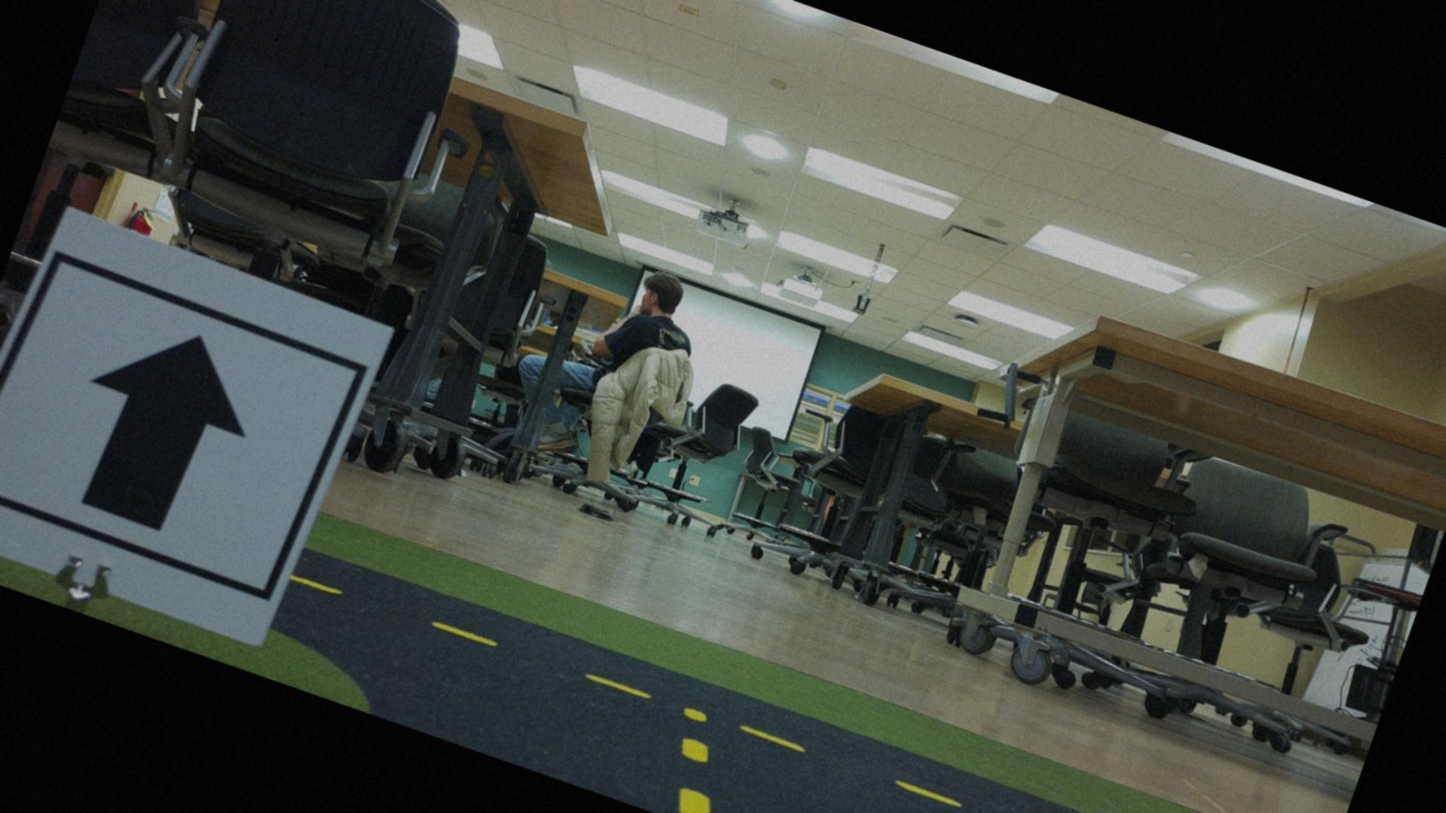gostraight: (0, 209, 374, 644)
yellowline: (288, 569, 1308, 812), (649, 699, 746, 812)
